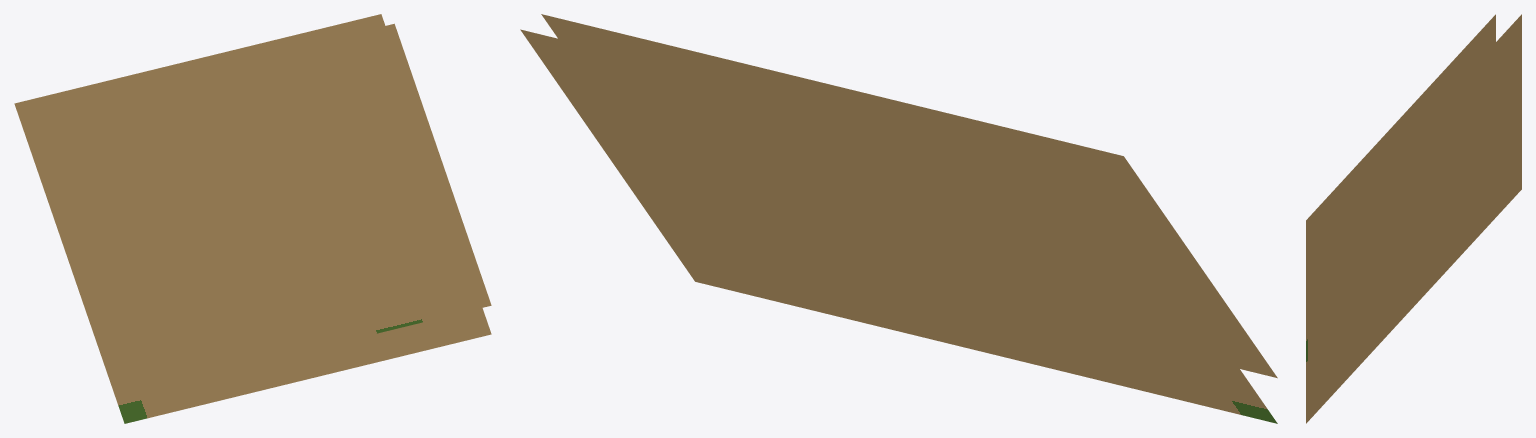
The picture shows the model from 3 angles, left to right: view 1: azimuth 30°, elevation 25°; view 2: azimuth 150°, elevation 25°; view 3: azimuth 270°, elevation 25°; orthographic projection. The views are drawn at different scales.
Size of the model in its own units: 1 by 0.624 by 0.5205.
1 material, 1 textured.
